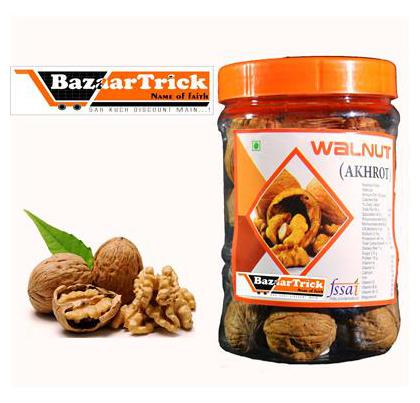JAR: (217, 54, 404, 366)
